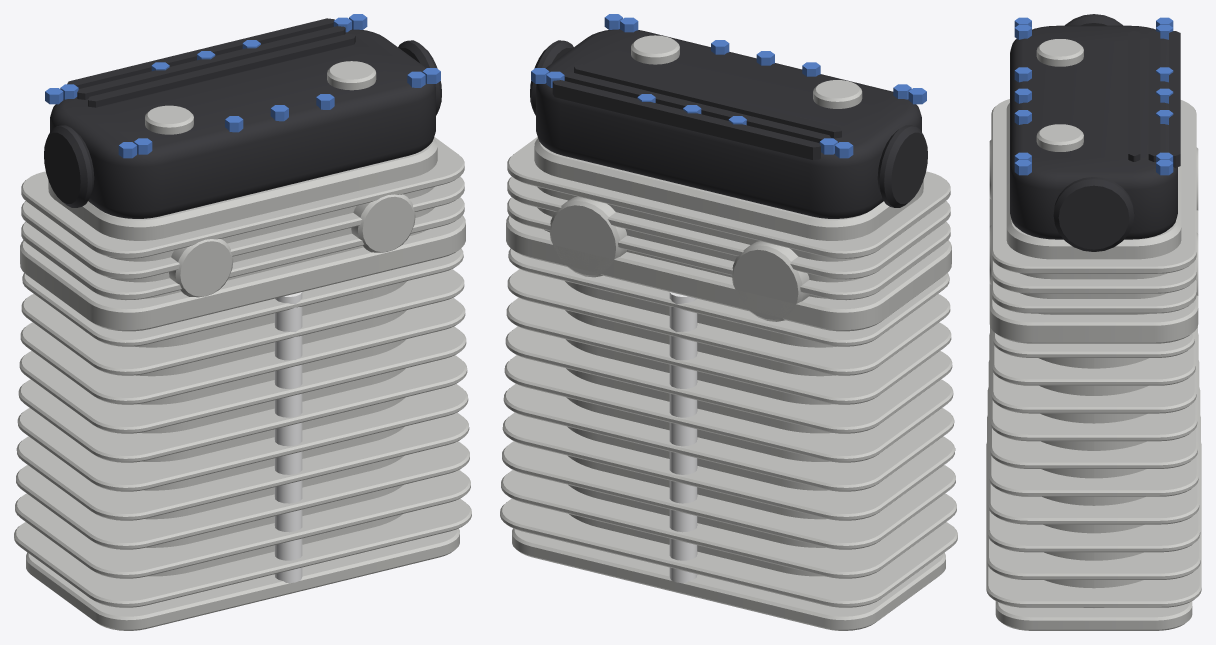
The model's file is race_high_comp.glb.
3 views of the same model, side by side, from view 1: azimuth 30°, elevation 25°; view 2: azimuth 150°, elevation 25°; view 3: azimuth 270°, elevation 25° (orthographic). The views are drawn at different scales.
Visible parts, largest first — view 1: lod0; view 2: lod0; view 3: lod0.
Part boxes in pixels (x1,y1,x2,y2): lod0: [14, 14, 471, 630]; lod0: [500, 14, 957, 630]; lod0: [986, 14, 1201, 630].
Size of what is drawn, in the model's own units: 0.248 by 0.3 by 0.128.
